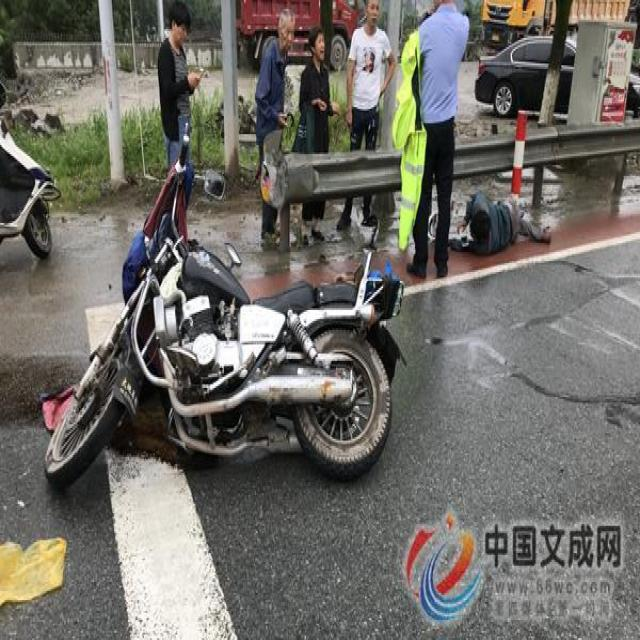fall: (446, 176, 555, 266)
nonfall: (408, 0, 468, 286), (158, 0, 212, 200), (255, 0, 293, 220), (343, 0, 387, 181), (299, 16, 333, 180)
